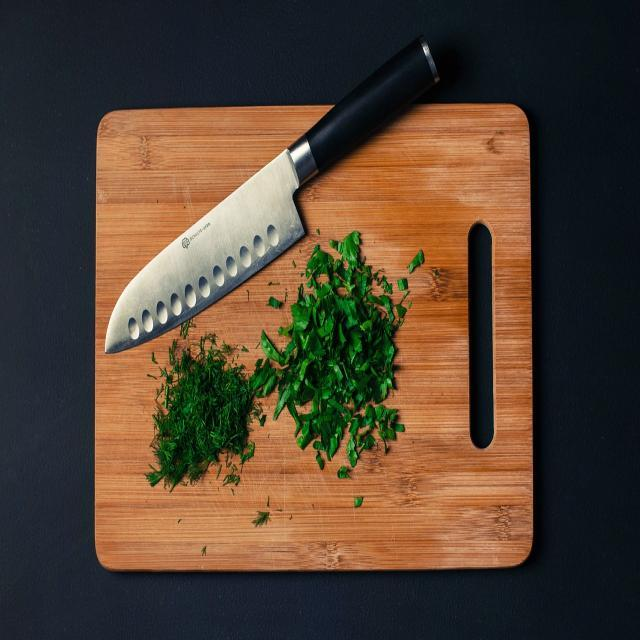Knife: (105, 39, 439, 352)
